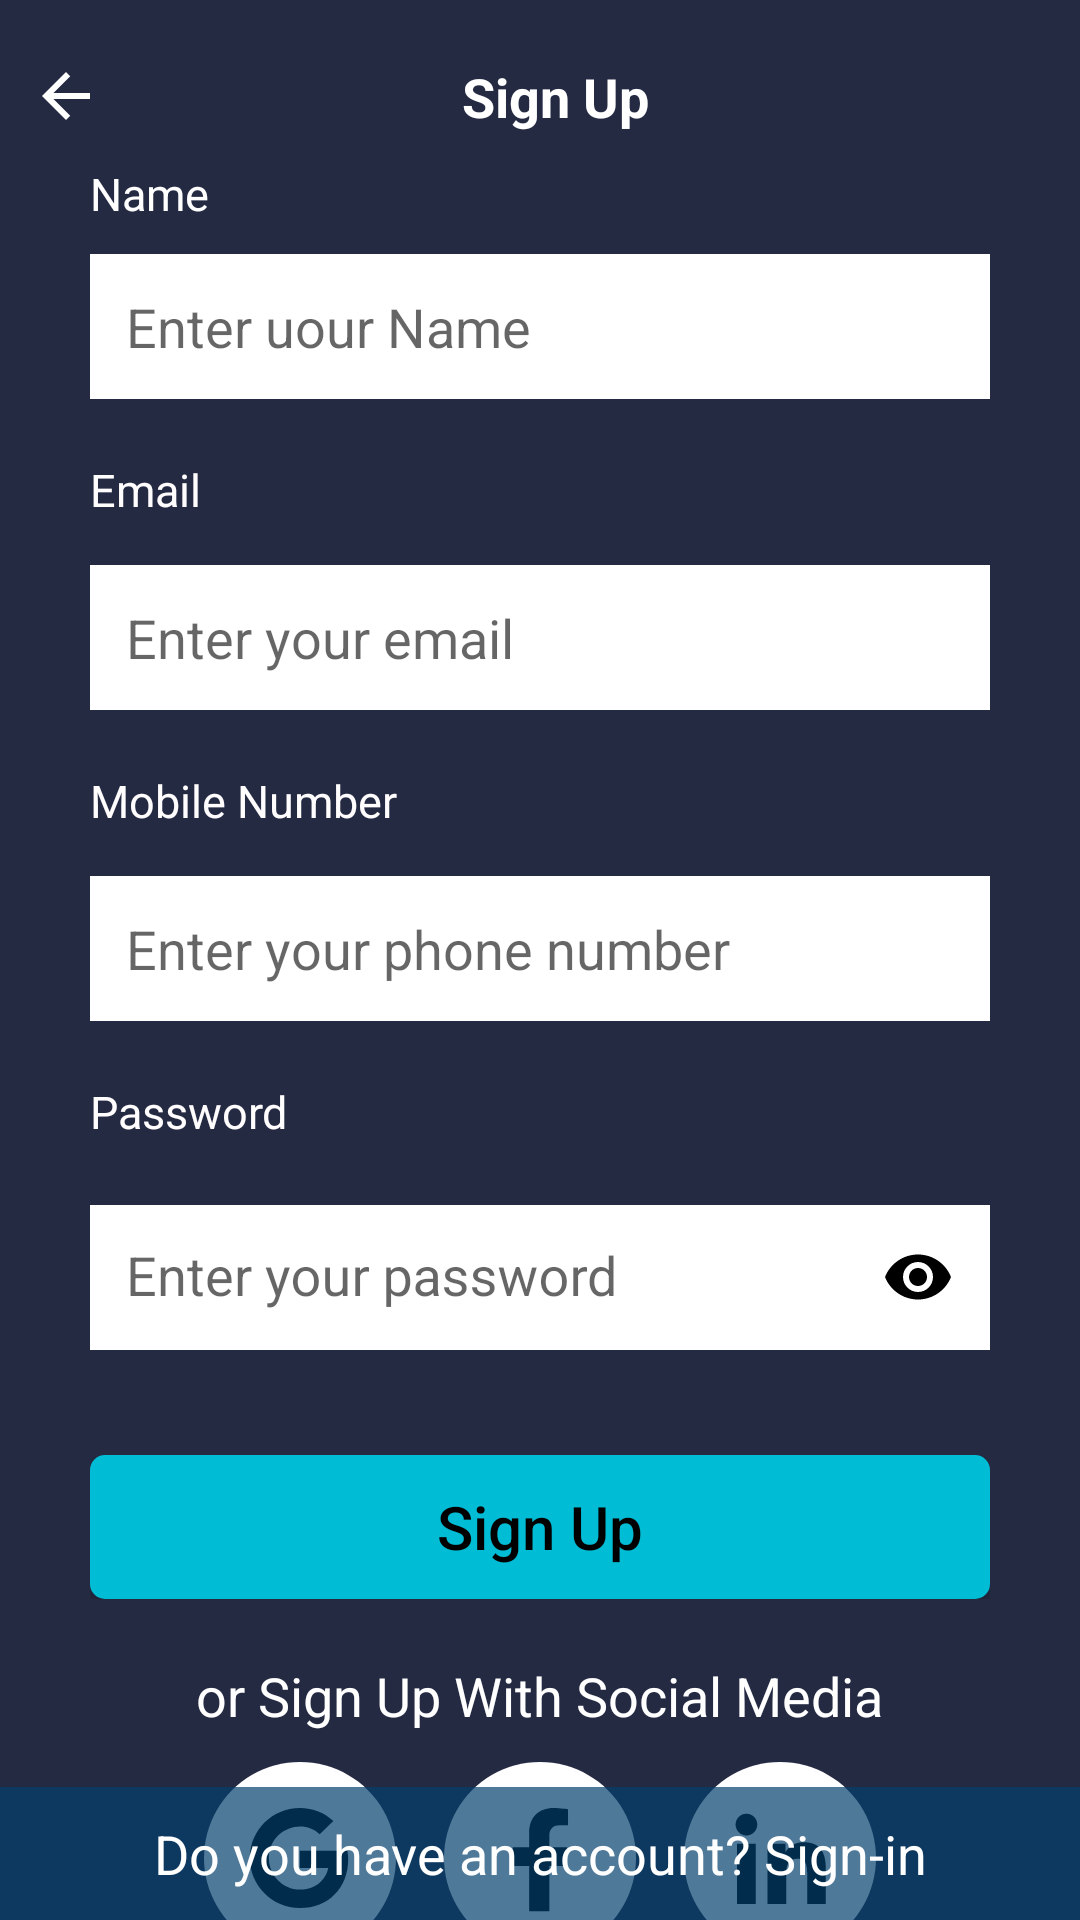

Screen size 1080 x 1920. Icon name, then its box in pixels as (x1, y1, x2, y2):
arrow back: (42, 72, 90, 120)
